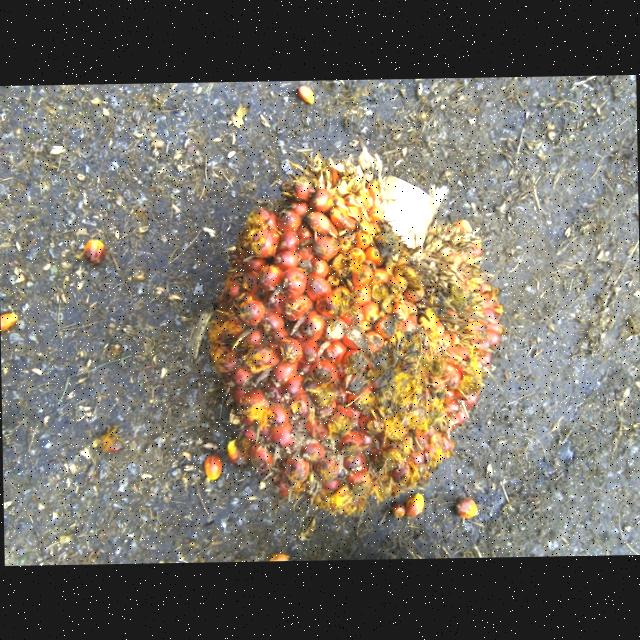Ripe: (208, 160, 499, 517)
